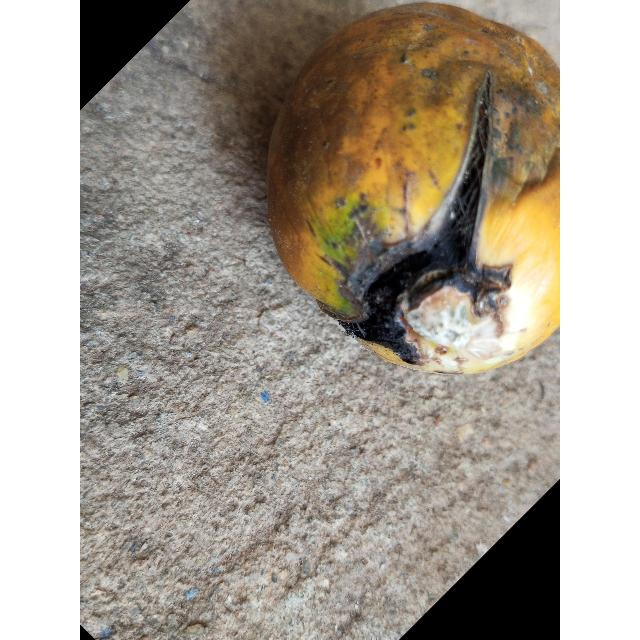damaged: (266, 2, 560, 378)
